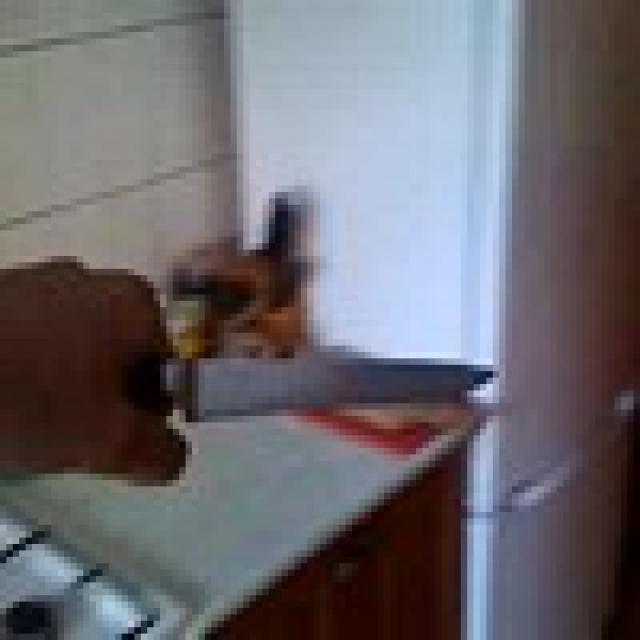weapon: (160, 340, 499, 422)
